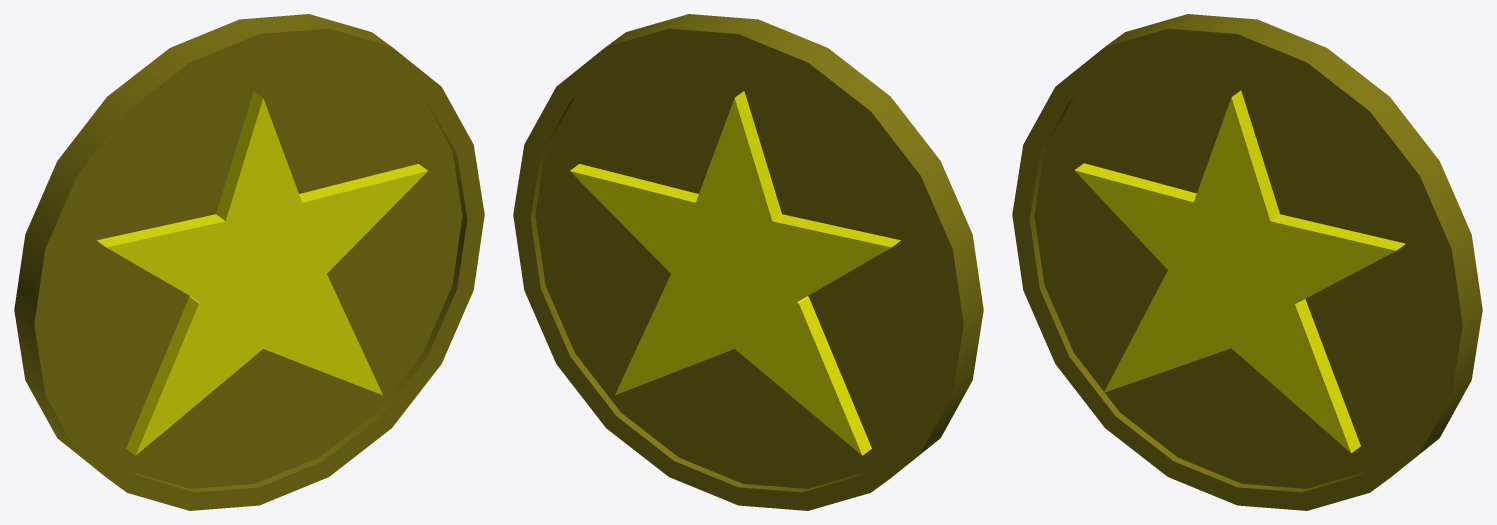
The model's file is Coin.fbx.
The picture shows the model from 3 angles, left to right: view 1: azimuth 30°, elevation 25°; view 2: azimuth 150°, elevation 25°; view 3: azimuth 330°, elevation 25°; orthographic projection.
Parts seen in each view (by area): view 1: pCylinder2; view 2: pCylinder2; view 3: pCylinder2.
Boxes of the visible parts, <box> form: pCylinder2: <box>14,14,484,510</box>; pCylinder2: <box>513,14,983,510</box>; pCylinder2: <box>1012,14,1482,510</box>.
Bounding box in the file's own units: 1.11 × 1.11 × 0.128.
